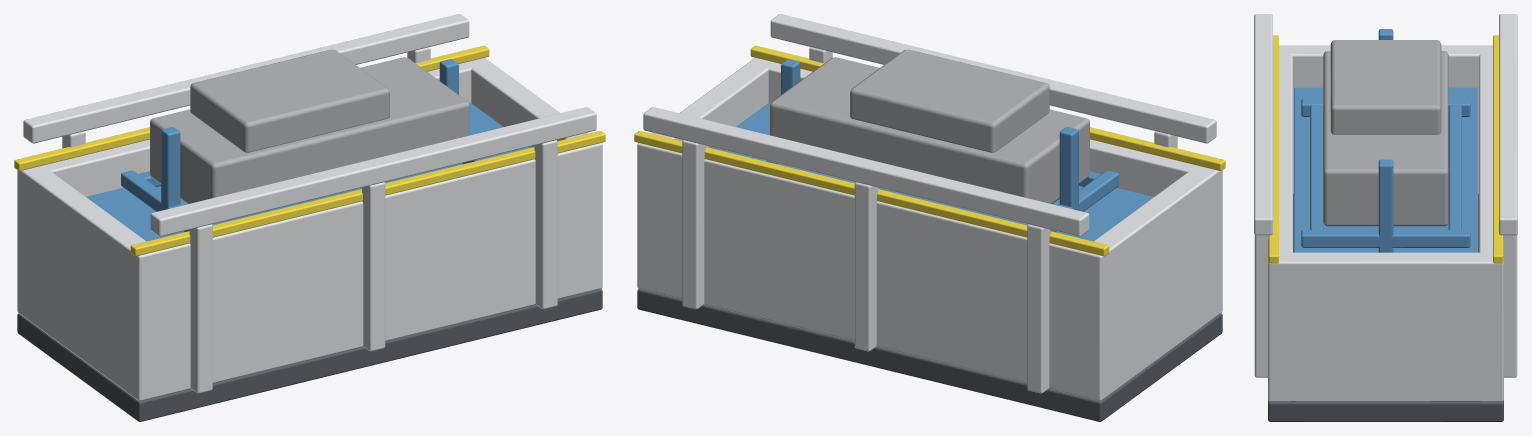
File: e-coat-dip-tank.glb
3 views of the same model, side by side, from view 1: azimuth 30°, elevation 25°; view 2: azimuth 150°, elevation 25°; view 3: azimuth 270°, elevation 25° (orthographic). The views are drawn at different scales.
Parts seen in each view (by area): view 1: e-coat-dip-tank, dip-carrier/primer, dip-carrier/blue; view 2: e-coat-dip-tank, dip-carrier/primer, dip-carrier/blue; view 3: e-coat-dip-tank, dip-carrier/primer, dip-carrier/blue.
Part boxes in pixels (x1,y1,x2,y2): e-coat-dip-tank: [14, 14, 605, 421]; dip-carrier/primer: [150, 49, 469, 203]; dip-carrier/blue: [121, 59, 487, 232]; e-coat-dip-tank: [634, 14, 1225, 421]; dip-carrier/primer: [770, 49, 1089, 203]; dip-carrier/blue: [752, 59, 1118, 232]; e-coat-dip-tank: [1254, 14, 1517, 421]; dip-carrier/primer: [1323, 40, 1448, 226]; dip-carrier/blue: [1301, 29, 1470, 252].
Bounding box in the file's own units: 7.1 × 3.47 × 3.58.
